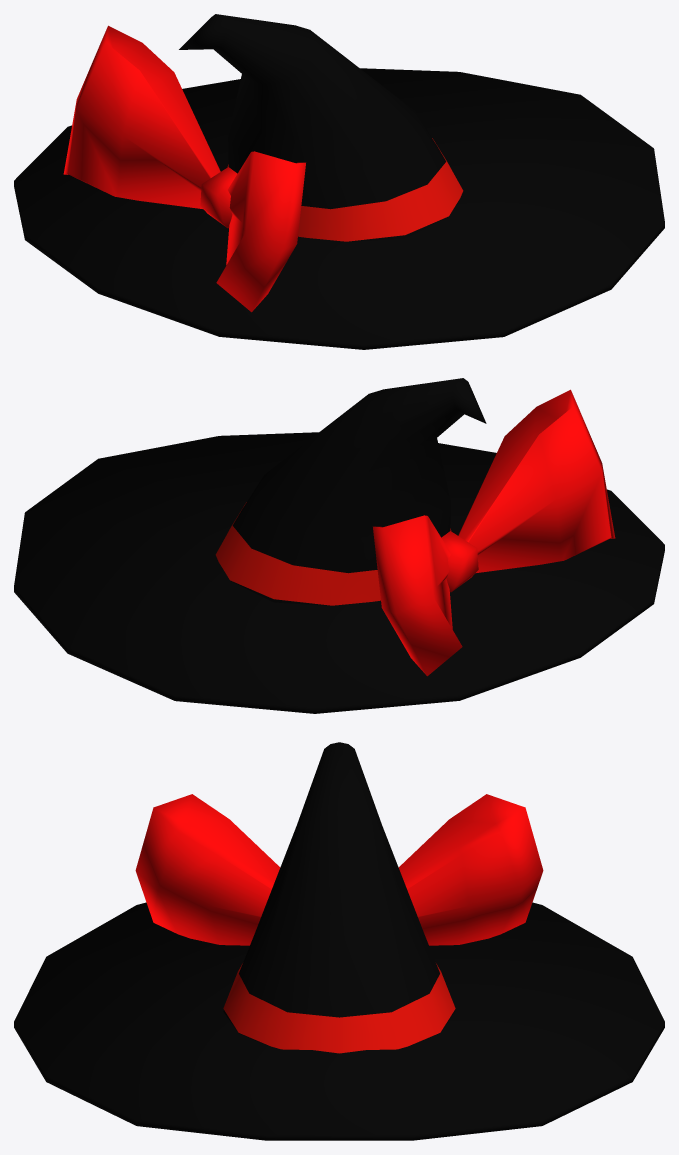
Rendered from witch_hat000.fbx.
The picture shows the model from 3 angles, top to bottom: view 1: azimuth 30°, elevation 25°; view 2: azimuth 150°, elevation 25°; view 3: azimuth 270°, elevation 25°; orthographic projection.
Parts seen in each view (by area): view 1: 球, リボン本体.001, 球.001, リボン帯.001; view 2: 球, リボン本体.001, 球.001, リボン帯.001; view 3: 球, リボン本体.001, 球.001.
Part boxes in pixels (x1,y1,x2,y2): 球: [14, 14, 664, 349]; リボン本体.001: [63, 25, 305, 312]; 球.001: [227, 138, 463, 241]; リボン帯.001: [200, 167, 237, 228]; 球: [14, 378, 664, 713]; リボン本体.001: [373, 389, 615, 676]; 球.001: [215, 502, 451, 605]; リボン帯.001: [441, 531, 478, 592]; 球: [14, 742, 664, 1140]; リボン本体.001: [135, 794, 543, 945]; 球.001: [223, 963, 455, 1053].
Size of the model in its own units: 1168 by 463 by 1198.
